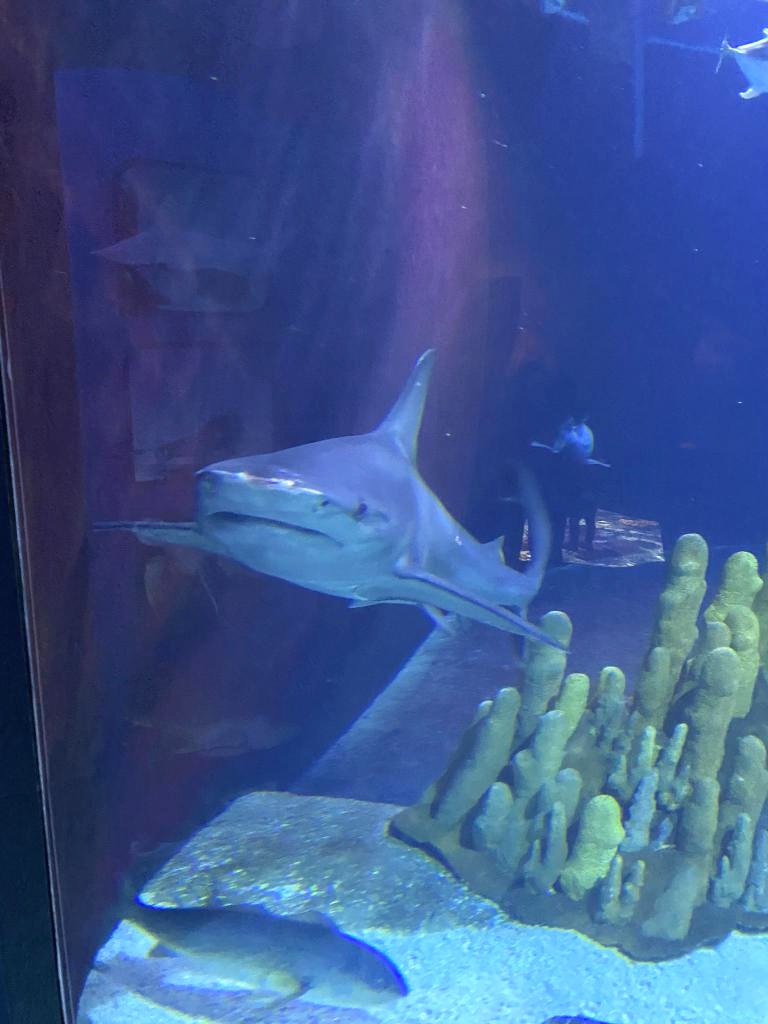fish: (96, 864, 408, 1008), (530, 420, 610, 470), (714, 28, 768, 102)
shark: (113, 348, 570, 650)
